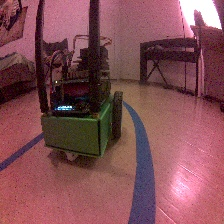rob: (39, 44, 124, 163)
